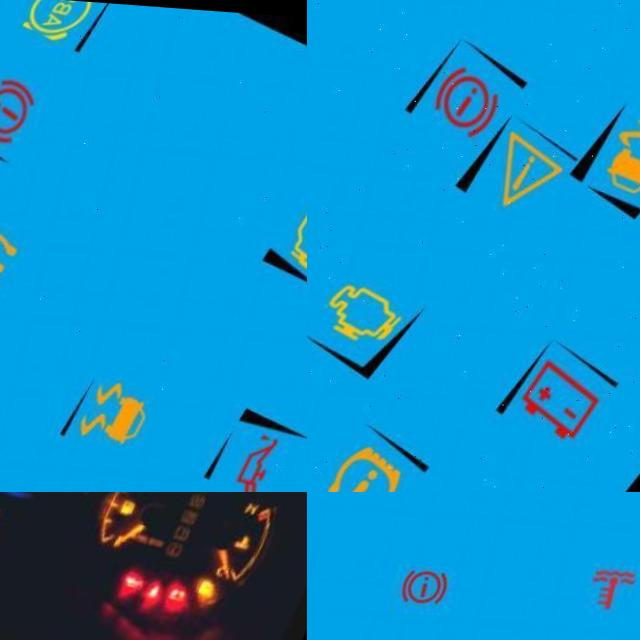Engine cooling system: (258, 519, 277, 536)
Low fuel level: (140, 492, 159, 504)
